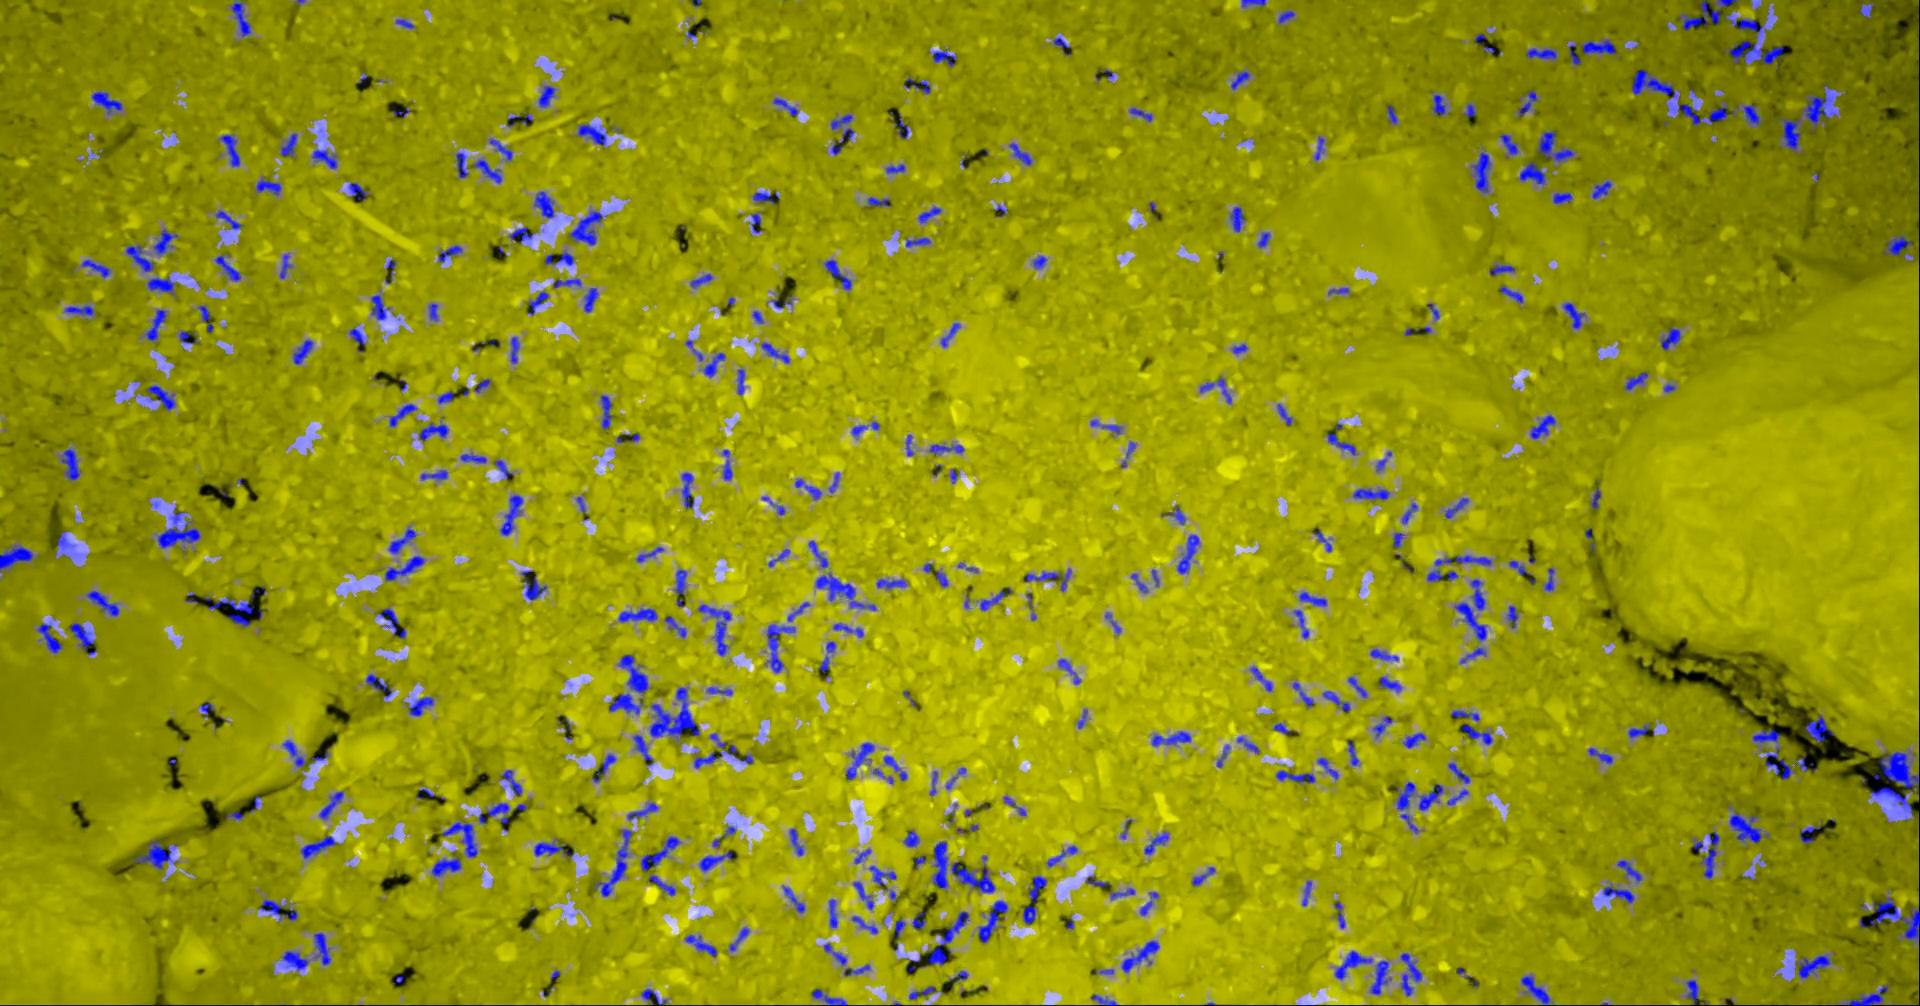ant: (1859, 897, 1919, 940), (649, 687, 698, 738), (593, 829, 631, 895), (815, 573, 875, 610), (927, 911, 968, 964), (1454, 579, 1486, 640), (1873, 751, 1919, 793), (1679, 0, 1738, 30), (157, 506, 201, 547), (1426, 554, 1491, 580), (1869, 785, 1919, 819), (1802, 85, 1837, 131), (698, 605, 730, 655), (951, 855, 994, 892), (204, 596, 253, 626), (640, 836, 681, 871), (1723, 39, 1783, 64), (766, 624, 795, 672), (568, 210, 604, 245), (977, 901, 1007, 942), (441, 822, 477, 856), (1537, 130, 1573, 163), (133, 840, 177, 868), (1396, 781, 1418, 833), (1121, 940, 1158, 972), (1022, 876, 1046, 923), (693, 733, 725, 768), (1730, 812, 1766, 842), (618, 654, 648, 692), (844, 742, 874, 779), (1335, 950, 1371, 979), (383, 555, 424, 580), (1023, 568, 1070, 589), (1724, 13, 1765, 37), (1764, 747, 1794, 779), (1841, 984, 1888, 1005), (1399, 951, 1421, 995), (1794, 954, 1832, 978), (499, 495, 522, 535), (1700, 831, 1719, 878), (477, 801, 508, 831), (69, 622, 97, 654), (86, 589, 119, 616), (1520, 976, 1549, 1005), (377, 607, 405, 638), (1176, 533, 1197, 573), (0, 544, 32, 570), (282, 739, 311, 767), (824, 259, 851, 290), (300, 835, 335, 857), (1199, 377, 1230, 403), (258, 899, 297, 920), (1804, 715, 1834, 742), (1470, 151, 1490, 192), (36, 622, 61, 653), (521, 570, 546, 600), (1779, 117, 1801, 151), (143, 309, 166, 340), (979, 587, 1011, 610), (684, 934, 716, 956), (230, 0, 250, 36), (932, 841, 947, 888), (124, 245, 152, 271), (317, 791, 343, 819), (472, 159, 502, 183), (146, 385, 175, 409), (590, 753, 615, 782), (1370, 960, 1390, 995), (869, 865, 895, 890), (389, 528, 417, 553), (1418, 782, 1443, 810), (218, 133, 239, 166), (698, 851, 731, 871), (1326, 432, 1355, 455), (91, 91, 122, 113), (1462, 723, 1492, 744), (1046, 845, 1077, 866), (608, 694, 643, 713), (215, 254, 240, 279), (1603, 883, 1634, 903), (364, 673, 391, 697), (830, 127, 853, 155), (389, 403, 417, 426), (1883, 234, 1912, 255), (759, 342, 789, 363), (632, 734, 653, 765), (152, 229, 177, 254), (1530, 414, 1556, 438), (1519, 161, 1545, 184), (60, 448, 79, 480), (1150, 730, 1190, 746), (577, 124, 606, 145), (1509, 560, 1534, 583), (1057, 658, 1079, 683), (1250, 666, 1272, 691), (883, 754, 905, 780), (1473, 33, 1500, 55), (794, 478, 820, 499), (782, 885, 804, 912), (1735, 104, 1763, 124), (648, 875, 676, 895), (281, 950, 309, 970), (811, 988, 846, 1005), (312, 932, 330, 964), (430, 857, 460, 876), (702, 352, 725, 376), (1144, 831, 1168, 854), (1617, 859, 1641, 882), (617, 608, 657, 622), (1562, 302, 1583, 328), (1291, 682, 1313, 708), (418, 422, 448, 439), (1322, 691, 1349, 711), (215, 210, 243, 229), (535, 842, 573, 856), (853, 882, 872, 909), (1581, 39, 1615, 55), (527, 291, 549, 315), (1444, 497, 1468, 518), (81, 259, 110, 277), (818, 641, 836, 671), (627, 801, 657, 819), (292, 339, 312, 365), (1686, 979, 1707, 1005), (1517, 89, 1537, 116), (533, 191, 552, 217), (808, 540, 827, 567), (725, 744, 752, 763), (502, 768, 521, 795), (851, 915, 877, 934), (1275, 770, 1314, 782), (489, 138, 512, 160), (823, 942, 846, 964), (1660, 326, 1680, 351), (772, 97, 797, 116), (311, 149, 337, 168), (370, 293, 389, 319), (408, 696, 433, 715), (1010, 144, 1031, 165), (664, 615, 686, 636), (1317, 757, 1338, 779), (543, 250, 574, 265), (147, 277, 175, 293), (255, 177, 279, 196), (1161, 506, 1185, 525), (1139, 890, 1158, 915), (681, 473, 693, 508), (1293, 608, 1308, 638), (832, 622, 863, 636), (197, 305, 213, 332), (640, 988, 667, 1005), (1448, 762, 1469, 782), (1003, 795, 1025, 815), (940, 323, 959, 345), (1624, 371, 1647, 390), (599, 395, 612, 429), (1191, 866, 1214, 885), (729, 927, 748, 950), (932, 48, 956, 66), (917, 206, 941, 224), (1498, 285, 1523, 302), (1352, 488, 1389, 499), (674, 569, 686, 606), (891, 113, 908, 138), (1459, 647, 1484, 663), (493, 459, 513, 479), (787, 602, 809, 621), (1347, 676, 1366, 697), (903, 77, 930, 93), (1313, 528, 1331, 551), (636, 546, 663, 561), (1299, 591, 1326, 606), (1752, 728, 1779, 743), (1236, 735, 1258, 753), (508, 226, 532, 243), (438, 245, 462, 262), (348, 326, 364, 351), (1498, 133, 1517, 154), (1229, 206, 1244, 231), (583, 287, 598, 312), (768, 547, 789, 567), (1371, 715, 1390, 735), (279, 133, 296, 156), (1402, 732, 1425, 748), (1589, 747, 1611, 763), (789, 828, 803, 855), (1369, 648, 1398, 661), (1450, 709, 1479, 721), (1051, 36, 1070, 55), (1591, 180, 1611, 198), (348, 182, 368, 199), (1799, 826, 1820, 843), (830, 113, 852, 130), (1401, 502, 1417, 523), (1794, 754, 1816, 771), (1525, 47, 1556, 58), (1276, 403, 1291, 426), (1378, 676, 1401, 691), (1230, 71, 1250, 89), (752, 191, 778, 203), (1130, 573, 1148, 592), (908, 986, 935, 998), (538, 85, 554, 107), (507, 113, 532, 126), (690, 273, 712, 287), (56, 530, 72, 549), (1446, 789, 1467, 804), (455, 152, 467, 177), (1110, 887, 1134, 899), (1627, 725, 1653, 737), (1129, 107, 1150, 121), (63, 305, 93, 315), (876, 578, 905, 588), (930, 445, 963, 453), (1084, 875, 1110, 887), (1431, 94, 1445, 114), (771, 293, 791, 307), (723, 448, 731, 480), (279, 254, 291, 278), (1490, 264, 1514, 276), (844, 964, 869, 976), (1217, 746, 1229, 767), (420, 469, 447, 479), (1090, 995, 1116, 1005), (1506, 605, 1517, 627), (552, 278, 582, 287), (1347, 739, 1357, 765), (903, 829, 918, 846), (828, 899, 837, 927), (1335, 901, 1343, 929), (1543, 567, 1553, 591), (1568, 44, 1581, 64), (178, 330, 197, 343), (912, 909, 924, 929), (510, 337, 519, 363), (460, 453, 486, 462), (616, 432, 639, 442), (1590, 486, 1600, 509), (474, 379, 490, 392), (201, 701, 215, 718), (706, 686, 731, 695), (867, 196, 889, 206), (1552, 192, 1571, 203), (893, 918, 904, 937), (1314, 135, 1323, 159), (905, 238, 930, 246), (1302, 880, 1310, 904), (1859, 3, 1873, 18), (1277, 10, 1294, 23), (395, 18, 414, 28), (1385, 105, 1396, 124), (885, 163, 904, 173), (750, 213, 761, 232), (737, 368, 744, 394), (437, 391, 453, 403), (1241, 0, 1265, 8), (1257, 232, 1270, 246), (1032, 255, 1046, 268), (935, 572, 947, 586), (1392, 532, 1403, 547), (1463, 103, 1476, 116), (1232, 343, 1247, 353), (428, 304, 437, 320), (1327, 287, 1349, 293), (1917, 79, 1919, 130)
